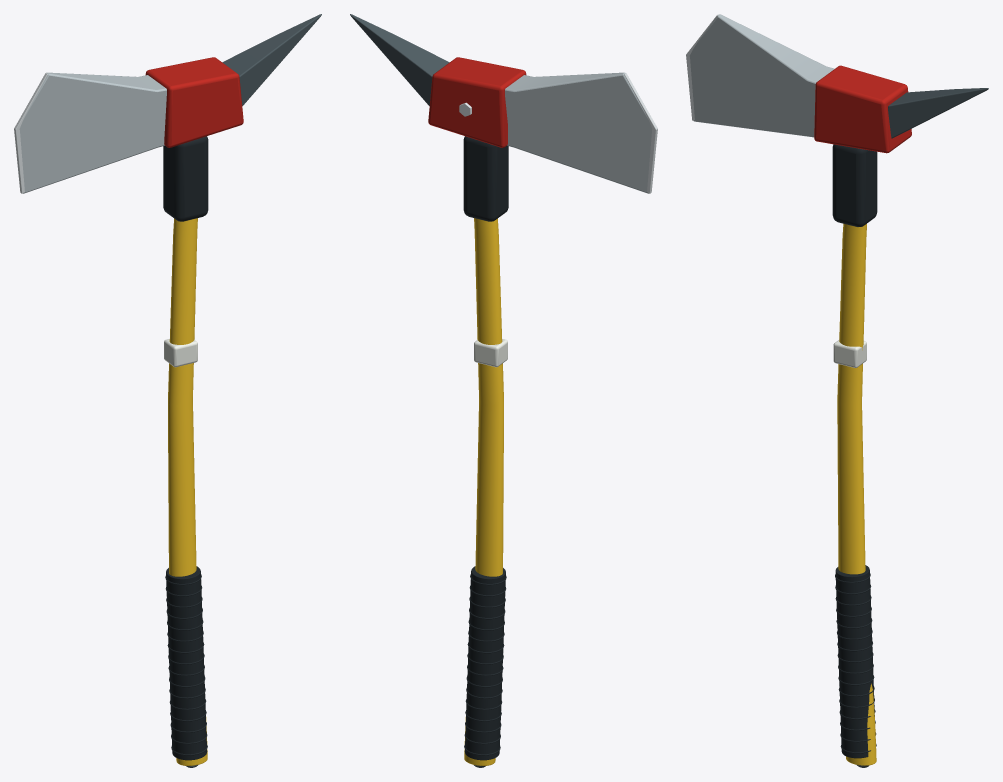
The model's file is fire_axe.glb.
The picture shows the model from 3 angles, left to right: view 1: azimuth 30°, elevation 25°; view 2: azimuth 150°, elevation 25°; view 3: azimuth 330°, elevation 25°; orthographic projection.
Visible parts, largest first — view 1: fire_axe_render_mesh; view 2: fire_axe_render_mesh; view 3: fire_axe_render_mesh.
Boxes of the visible parts, <box> form: fire_axe_render_mesh: <box>14,14,321,767</box>; fire_axe_render_mesh: <box>350,14,657,767</box>; fire_axe_render_mesh: <box>686,14,988,767</box>.
Size of the model in its own units: 0.3859 by 0.8765 by 0.0583.
